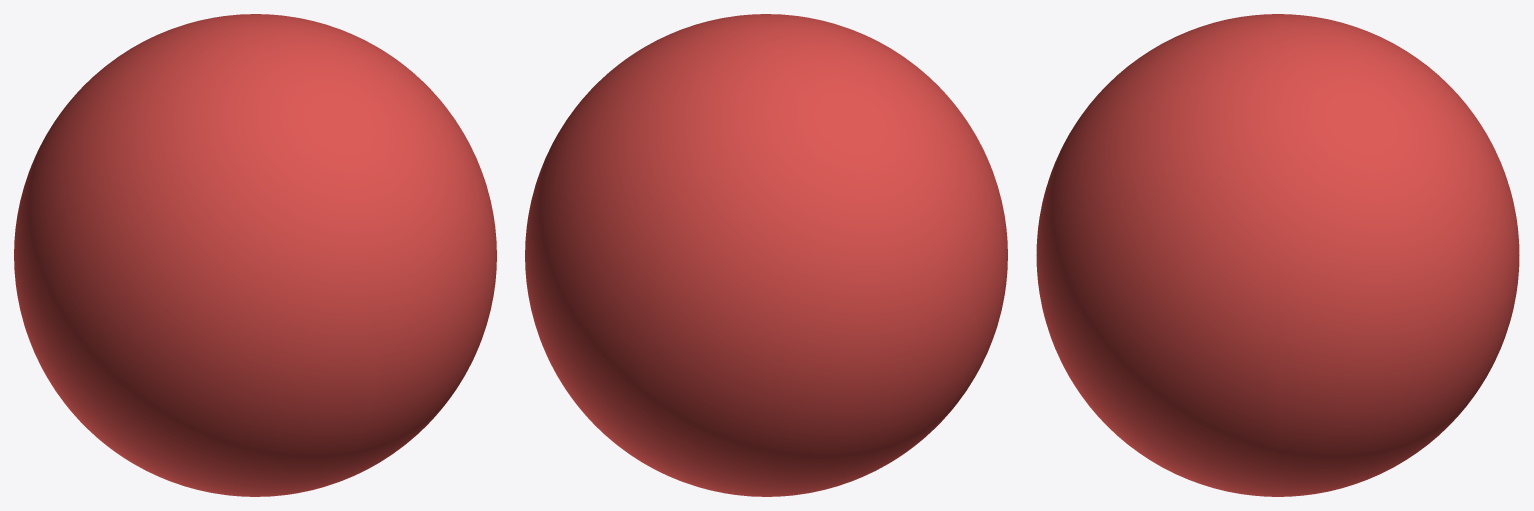
Rendered from expected.gltf.
The picture shows the model from 3 angles, left to right: view 1: azimuth 30°, elevation 25°; view 2: azimuth 150°, elevation 25°; view 3: azimuth 270°, elevation 25°; orthographic projection.
Size of the model in its own units: 20 by 20 by 20.
